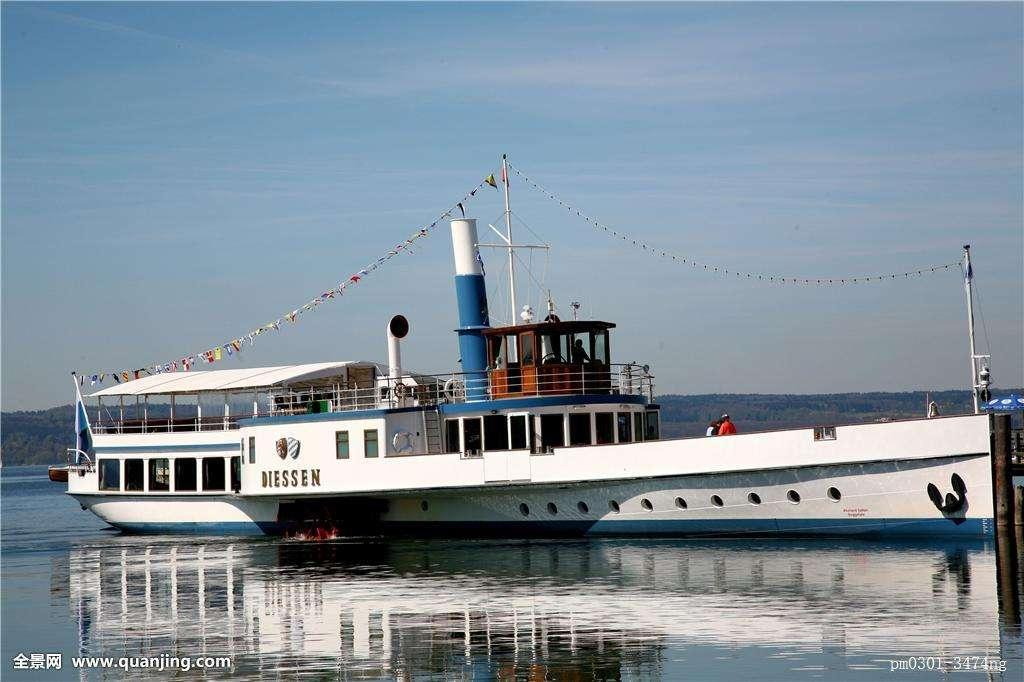otherboat: (42, 159, 1023, 555)
